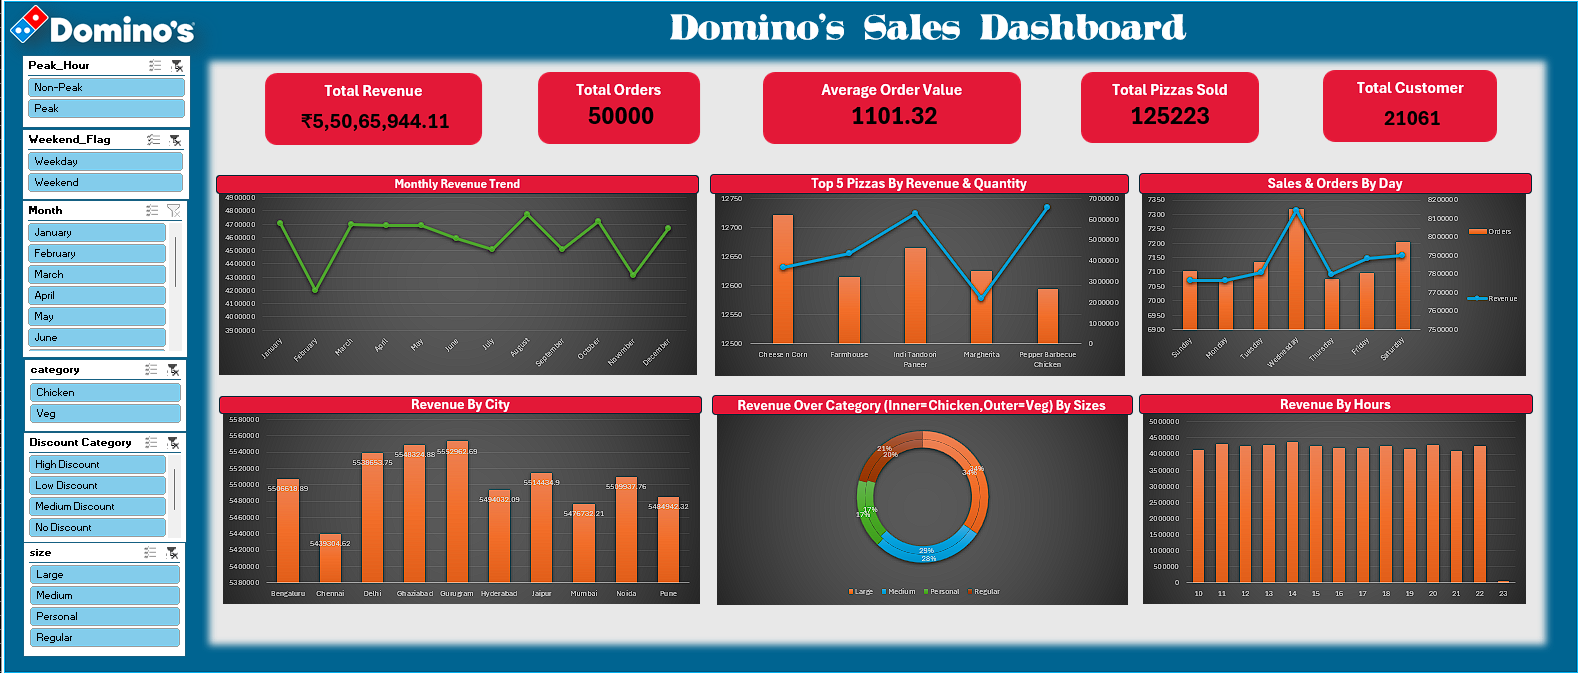

The dashboard page shown, as its layout file describes it:
{"tool":"powerbi","page":{"name":"Page 1","canvas":[1280,720],"ordinal":0},"visuals":[{"type":"cardVisual","fields":{"Data":["Table1.Average Order Value","Table1.Total Customers","Table1.Total Orders","Table1.Total Pizzas Sold","Table1.Total Revenue"]},"box":[0,123,1280,99.9],"z":0},{"type":"shape","box":[0,0,1280,123],"z":1000},{"type":"textbox","box":[493.9,10.6,738.2,123.5],"z":2000},{"type":"image","box":[49,0,640,92.3],"z":3000},{"type":"lineChart","fields":{"Y":["Sum(Table1.total_amount)"],"Category":["Table1.Month"]},"box":[510.3,222.9,468,222.9],"z":4000},{"type":"clusteredBarChart","title":"Top 5 Pizza by Revenue","fields":{"Category":["Table1.pizza_name"],"Y":["Table1.Total Revenue"]},"box":[167.2,513.2,343.1,206.6],"z":5000},{"type":"clusteredBarChart","fields":{"Category":["Table1.city"],"Y":["Sum(Table1.total_amount)"]},"box":[167.2,222.9,343.1,290.2],"z":6000},{"type":"lineClusteredColumnComboChart","title":"Revenue & Orders by Day","fields":{"Category":["Table1.Day Of Week"],"Y2":["Table1.Total Revenue"],"Y":["Table1.Total Orders"]},"box":[510.3,445.9,468,273.9],"z":7000},{"type":"donutChart","title":"Revenue by Pizza Category","fields":{"Y":["Table1.Total Revenue"],"Category":["Table1.category"]},"box":[978,223,302,223],"z":8000},{"type":"lineClusteredColumnComboChart","title":"Discount Impact","fields":{"Category":["Table1.Discount Category"],"Y":["Table1.Total Orders"],"Y2":["Table1.Total Revenue"]},"box":[978,446,302,274],"z":9000},{"type":"slicer","fields":{"Values":["Table1.Month"]},"box":[0,222.9,167.2,202.8],"z":9001},{"type":"slicer","fields":{"Values":["Table1.city"]},"box":[0,425.7,167.2,148],"z":9002},{"type":"advancedSlicerVisual","fields":{"Values":["Table1.category"]},"box":[0,573.7,167.2,146.1],"z":9003}]}

Visuals, with their boxes on the page's 1280x720 design canvas (x1, y1, x2, y2). These are canvas units, not pixel positions in the 1578x673 screenshot, which may show the page scaled, cropped or inside an application window:
cardVisual - Table1.Average Order Value x Table1.Total Customers: [left=0, top=123, right=1280, bottom=223]
shape: [left=0, top=0, right=1280, bottom=123]
textbox: [left=494, top=11, right=1232, bottom=134]
image: [left=49, top=0, right=689, bottom=92]
lineChart - Sum(Table1.total_amount) x Table1.Month: [left=510, top=223, right=978, bottom=446]
"Top 5 Pizza by Revenue" clusteredBarChart: [left=167, top=513, right=510, bottom=720]
clusteredBarChart - Table1.city x Sum(Table1.total_amount): [left=167, top=223, right=510, bottom=513]
"Revenue & Orders by Day" lineClusteredColumnComboChart: [left=510, top=446, right=978, bottom=720]
"Revenue by Pizza Category" donutChart: [left=978, top=223, right=1280, bottom=446]
"Discount Impact" lineClusteredColumnComboChart: [left=978, top=446, right=1280, bottom=720]
slicer - Table1.Month: [left=0, top=223, right=167, bottom=426]
slicer - Table1.city: [left=0, top=426, right=167, bottom=574]
advancedSlicerVisual - Table1.category: [left=0, top=574, right=167, bottom=720]
